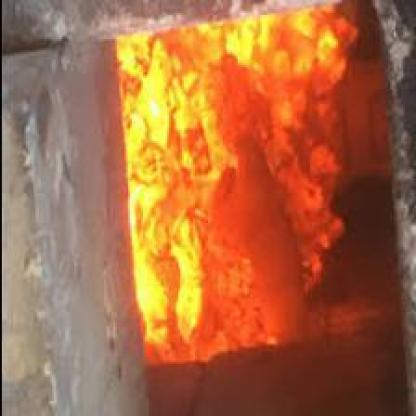Fire: (113, 0, 378, 356)
